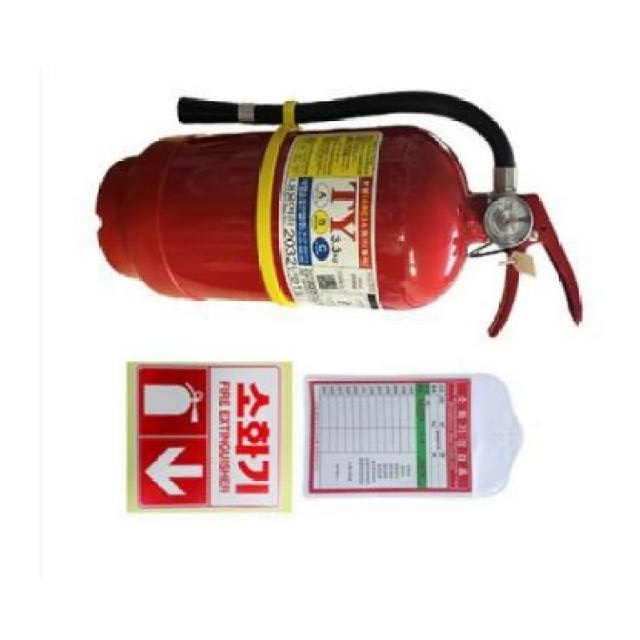fire extinguisher: (95, 89, 583, 340)
